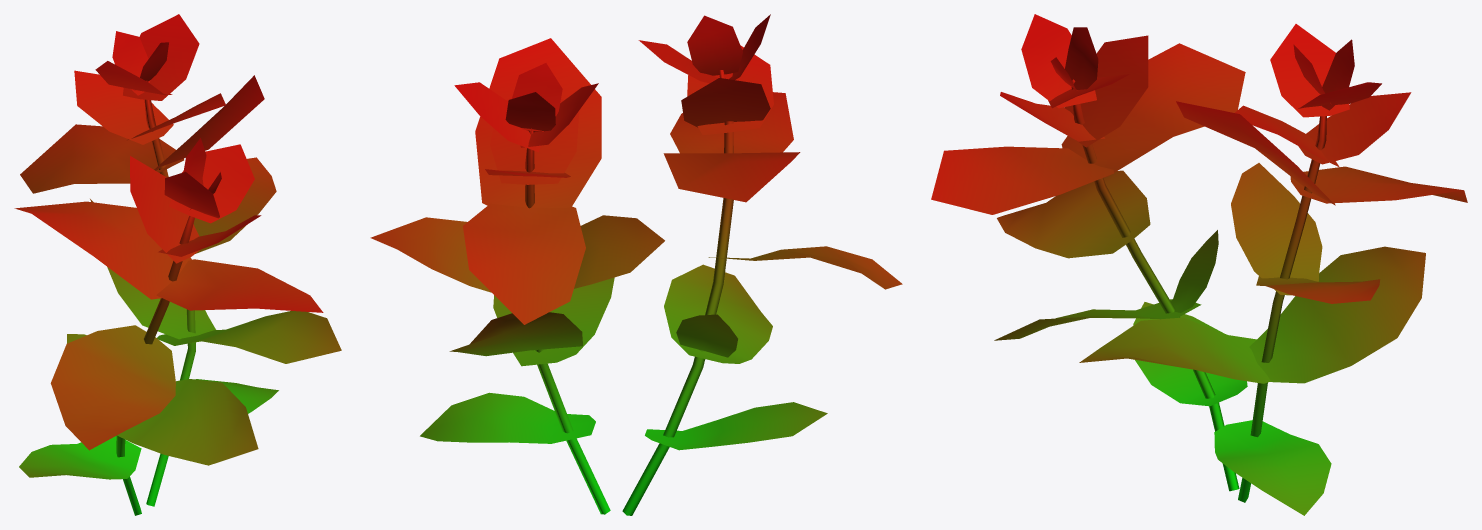
The model's file is Rubber Bush_LOD5_Var7_xffhfekia.fbx.
3 renders of one model, left to right at view 1: azimuth 30°, elevation 25°; view 2: azimuth 150°, elevation 25°; view 3: azimuth 270°, elevation 25°, orthographic. The views are drawn at different scales.
Visible parts, largest first — view 1: _r26p_Var7_LOD5; view 2: _r26p_Var7_LOD5; view 3: _r26p_Var7_LOD5.
Part boxes in pixels (x1,y1,x2,y2): _r26p_Var7_LOD5: (14,14,341,515); _r26p_Var7_LOD5: (370,14,902,515); _r26p_Var7_LOD5: (931,14,1467,515).
Size of the model in its own units: 34.92 by 42.99 by 44.07.
